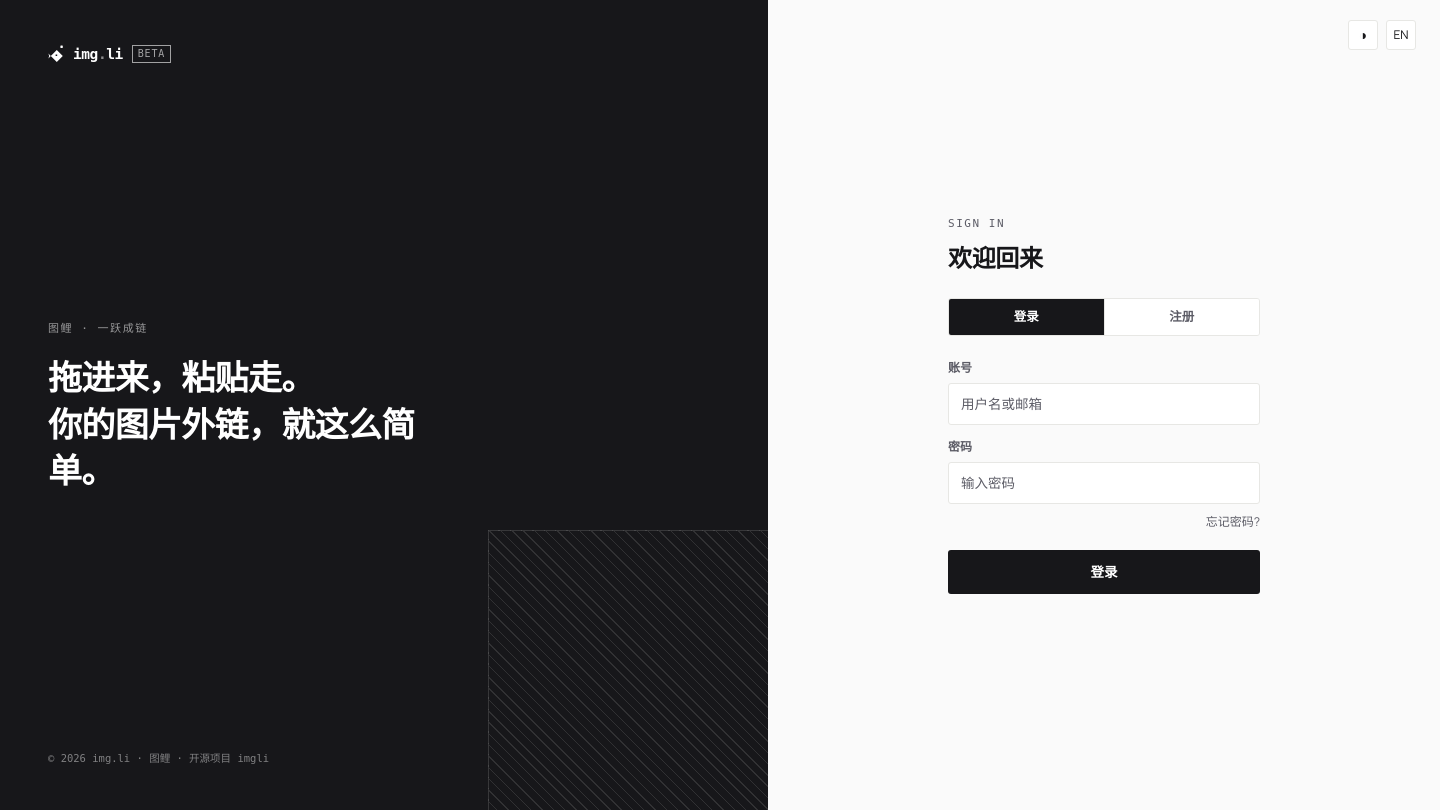
Scenario: 服务端错误显示后端 message
This screenshot has width=1440, height=810.
Type "ling" into the field labelled "账号" at (1104, 404), box [948,383,1260,425]
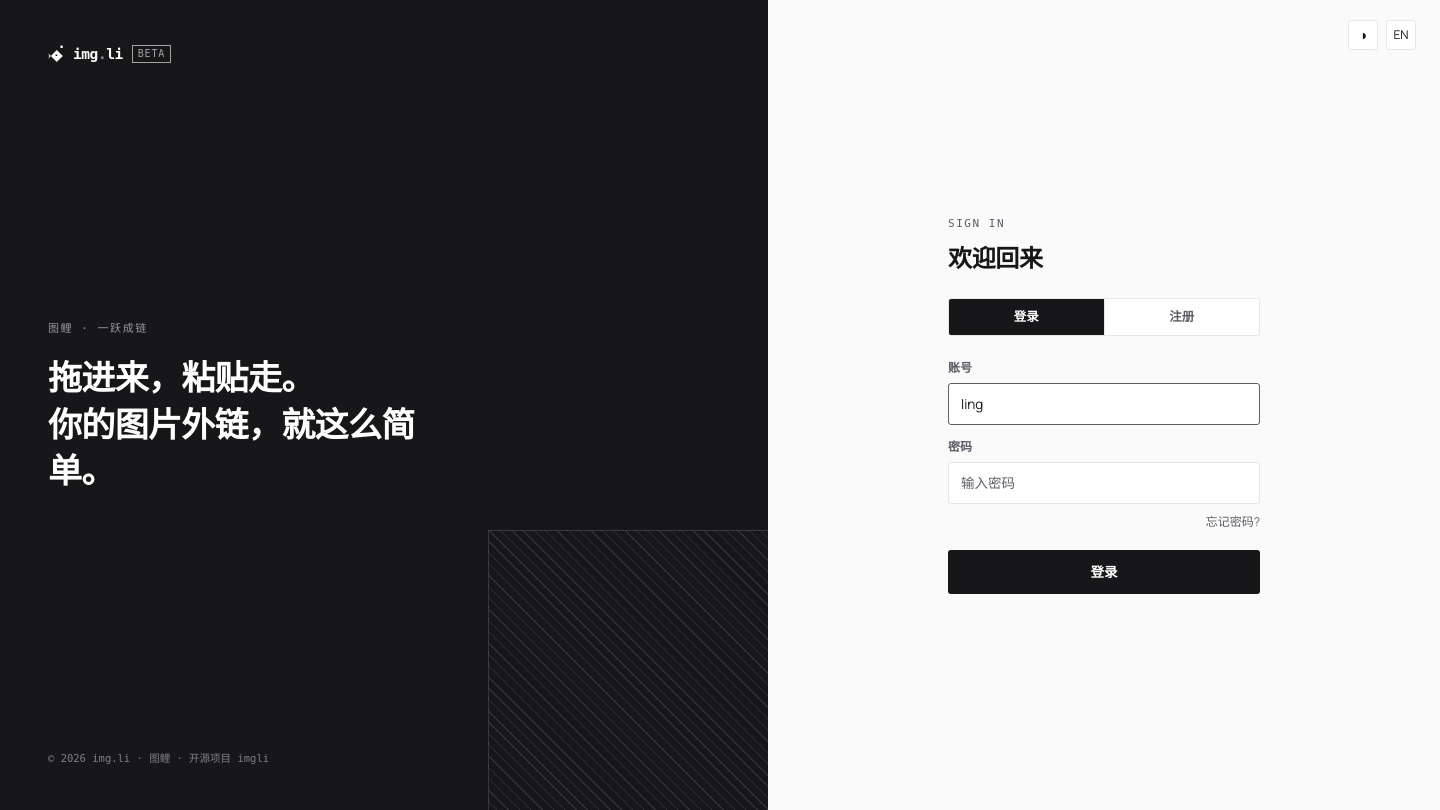
Type "wrongpass1" into the password field labelled "密码" at (1104, 483), box [948,462,1260,504]
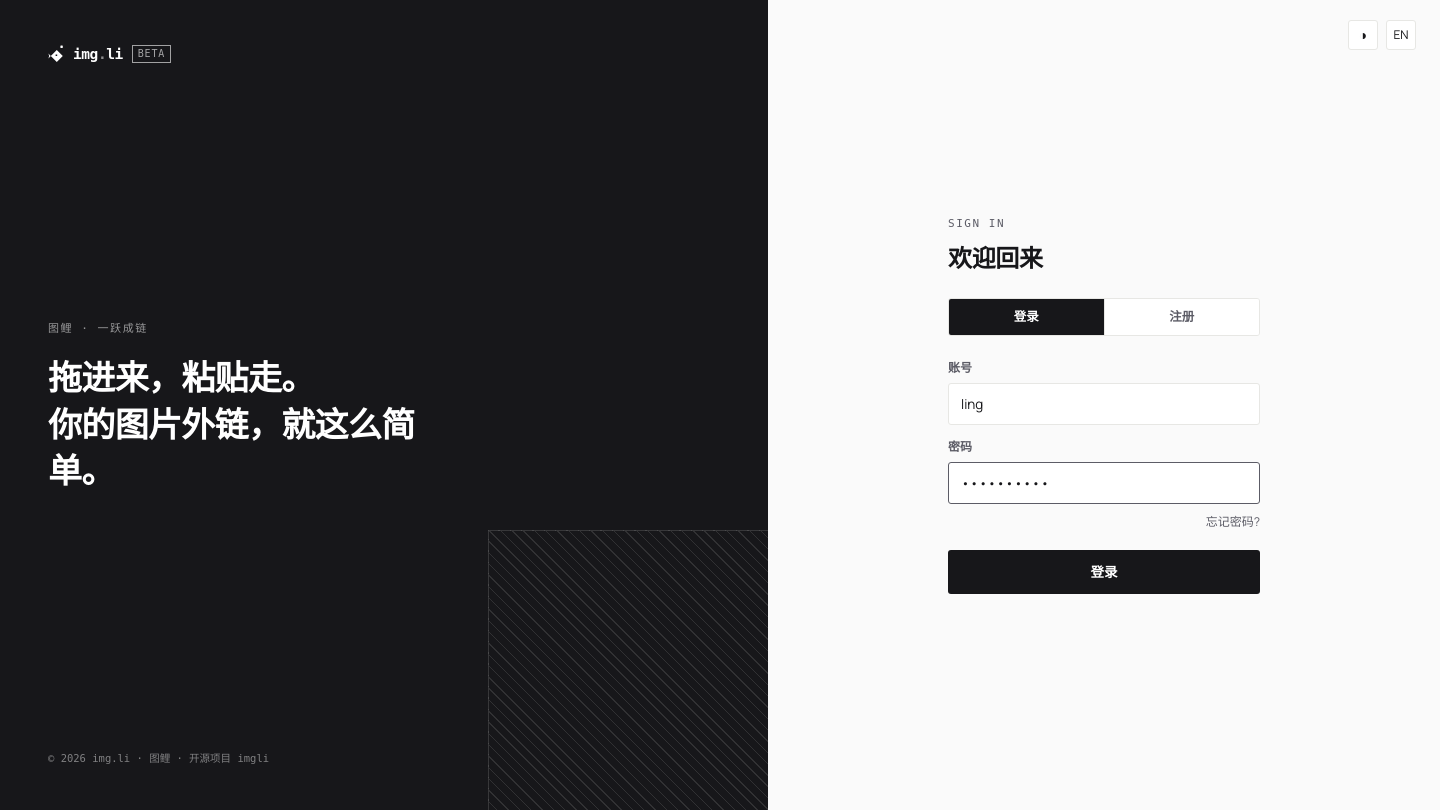
Click the button with test id "auth-submit" at (1104, 572), box [948,550,1260,594]
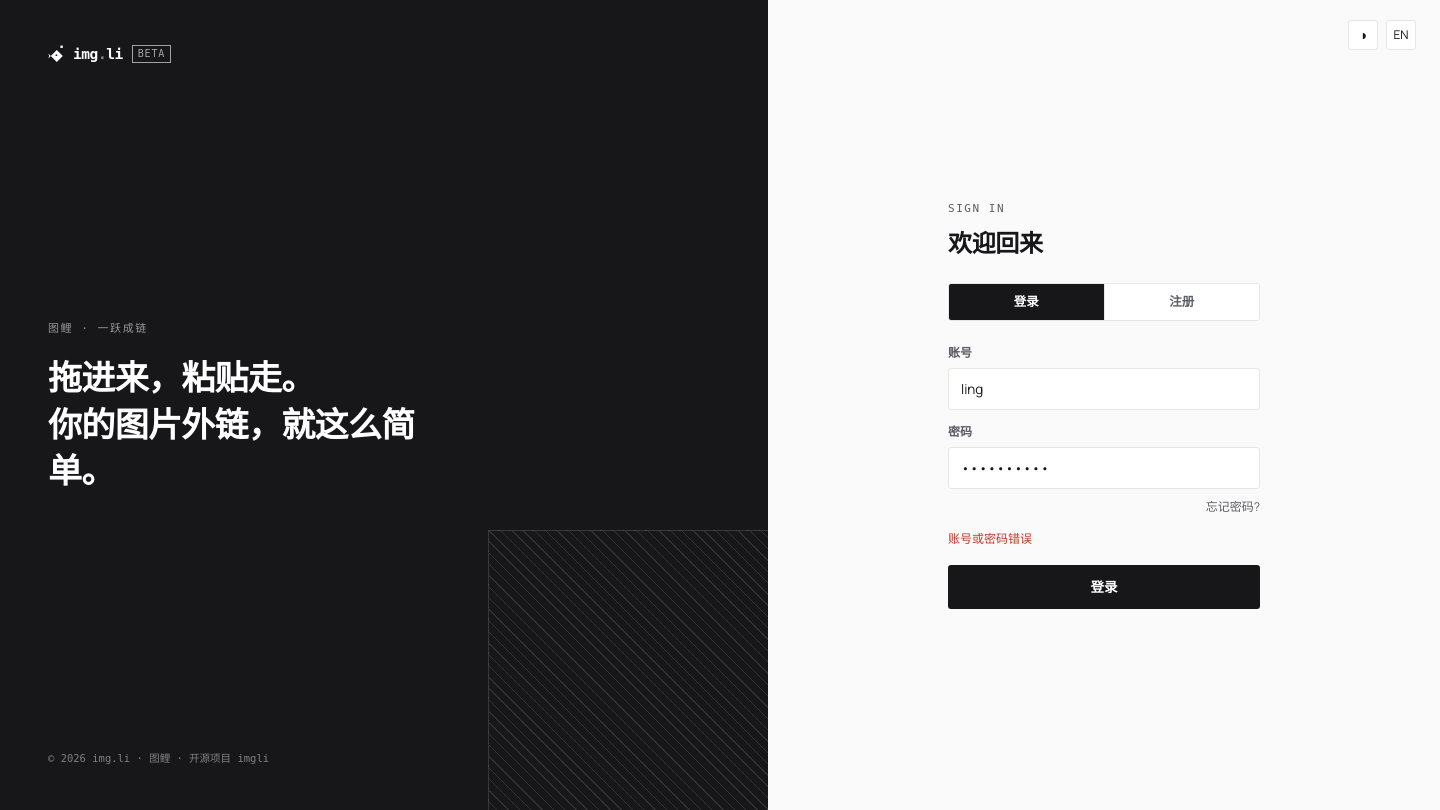
expect the text "账号或密码错误" is shown: met, box [948,530,1032,547]
